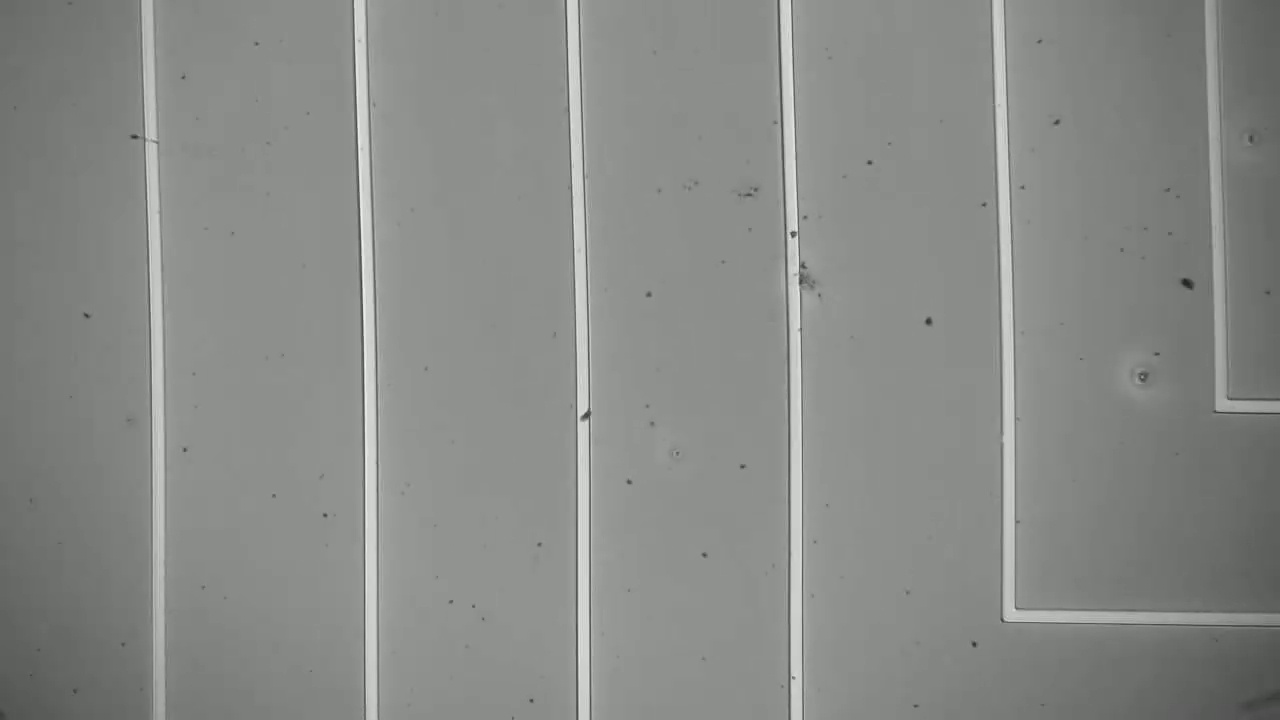stains_enbedded: (573, 408, 596, 428)
